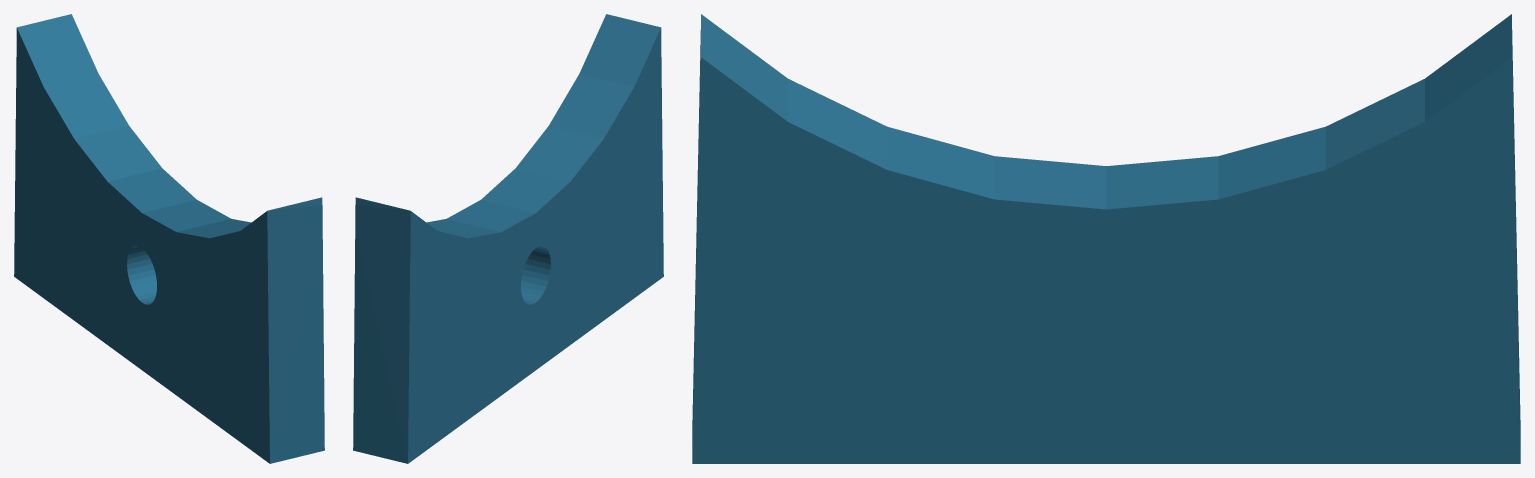
File: VIS_WristSlider2.dae
The picture shows the model from 3 angles, left to right: view 1: azimuth 30°, elevation 25°; view 2: azimuth 150°, elevation 25°; view 3: azimuth 270°, elevation 25°; orthographic projection. The views are drawn at different scales.
Visible parts, largest first — view 1: VIS_WristSlider2; view 2: VIS_WristSlider2; view 3: VIS_WristSlider2.
Part boxes in pixels (bbox=[...]): VIS_WristSlider2: bbox=[14, 14, 324, 463]; VIS_WristSlider2: bbox=[353, 14, 663, 463]; VIS_WristSlider2: bbox=[692, 14, 1520, 463].
Size of the model in its own units: 0.00799 by 0.0645 by 0.035.
